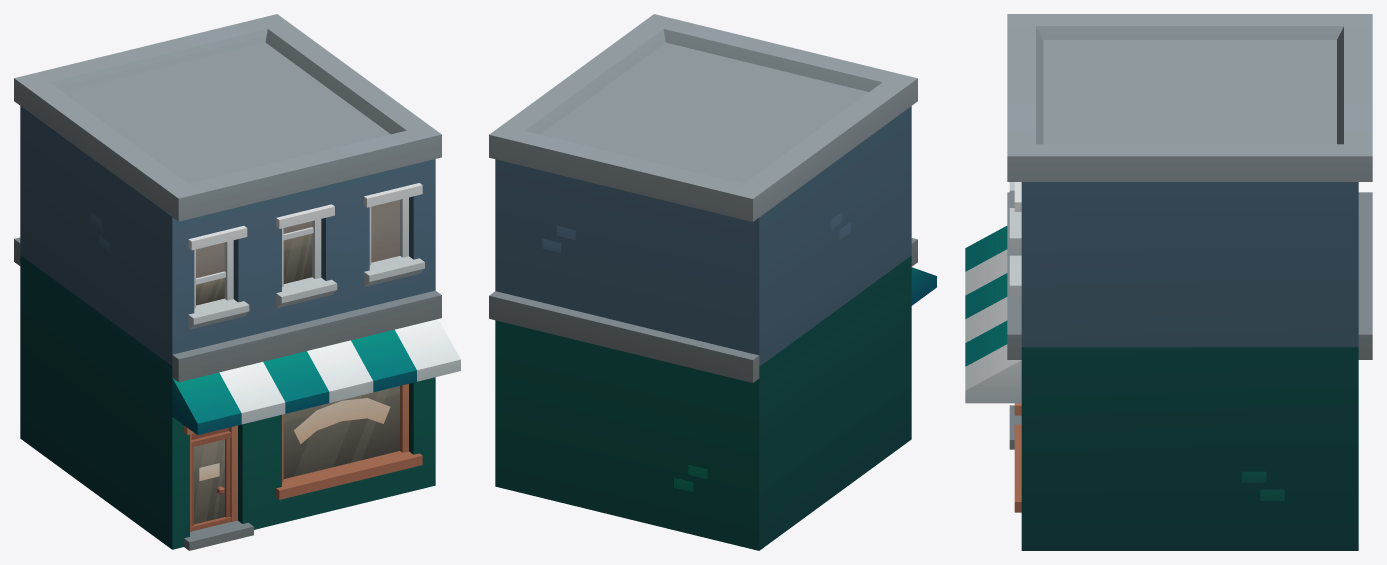
Rendered from shop_a.glb.
The picture shows the model from 3 angles, left to right: view 1: azimuth 30°, elevation 25°; view 2: azimuth 150°, elevation 25°; view 3: azimuth 270°, elevation 25°; orthographic projection. The views are drawn at different scales.
Parts seen in each view (by area): view 1: building_A_withoutBase; view 2: building_A_withoutBase; view 3: building_A_withoutBase.
Boxes of the visible parts, bbox=[...] form: building_A_withoutBase: bbox=[14, 14, 460, 550]; building_A_withoutBase: bbox=[489, 14, 936, 550]; building_A_withoutBase: bbox=[965, 14, 1372, 550].
Size of the model in its own units: 1.21 by 1.55 by 1.45.
Materials: 1 (1 with a texture image).
